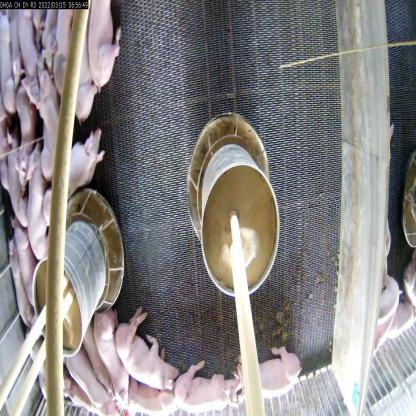Pig: (114, 302, 188, 394), (92, 307, 140, 415), (35, 62, 70, 182), (170, 365, 246, 412), (25, 145, 54, 261), (14, 74, 41, 188)
